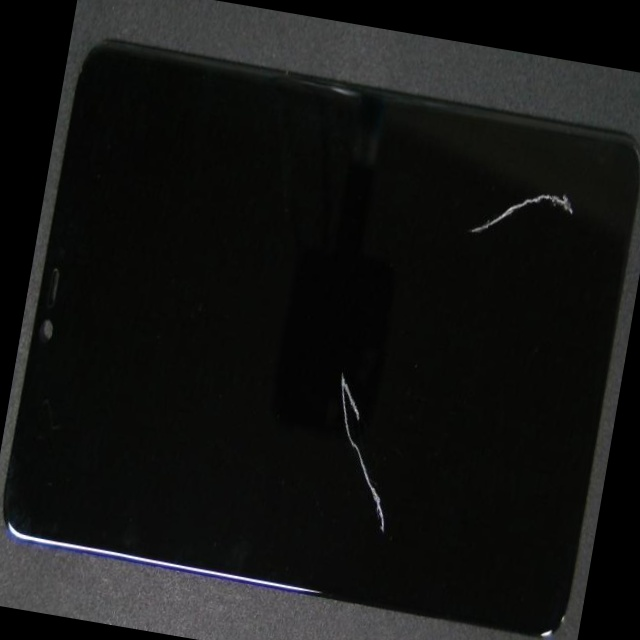scratch: (217, 342, 590, 640), (299, 131, 640, 324)
